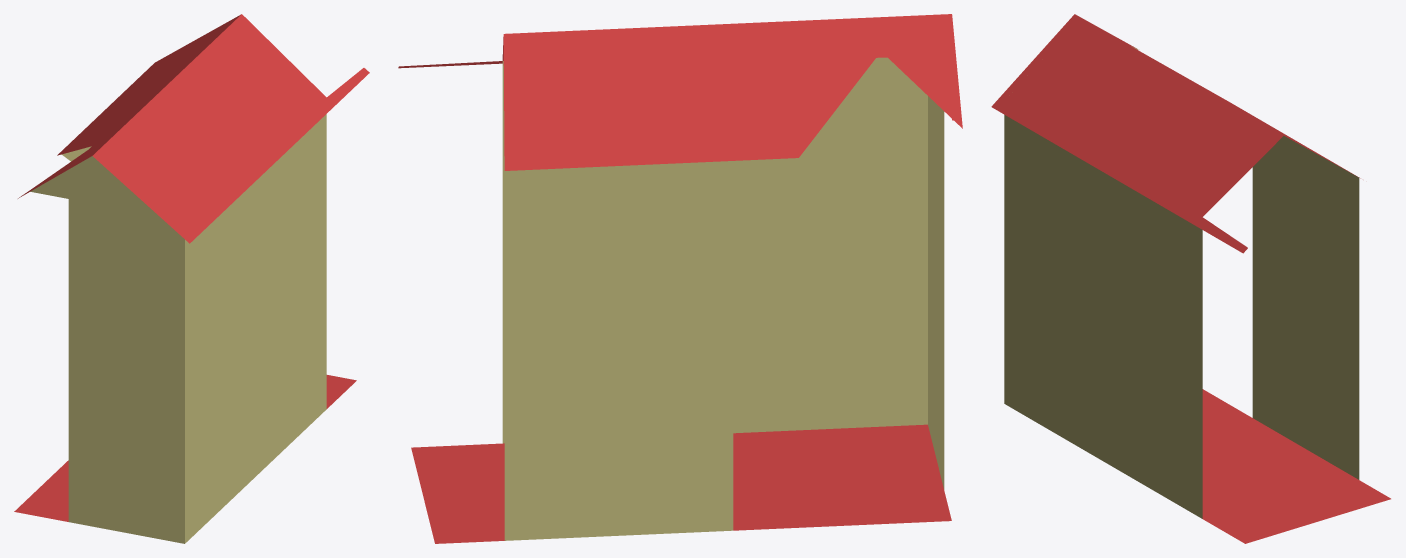
The picture shows the model from 3 angles, left to right: view 1: azimuth 30°, elevation 25°; view 2: azimuth 150°, elevation 25°; view 3: azimuth 270°, elevation 25°; orthographic projection. The views are drawn at different scales.
Size of the model in its own units: 12.21 by 10.74 by 10.74.
